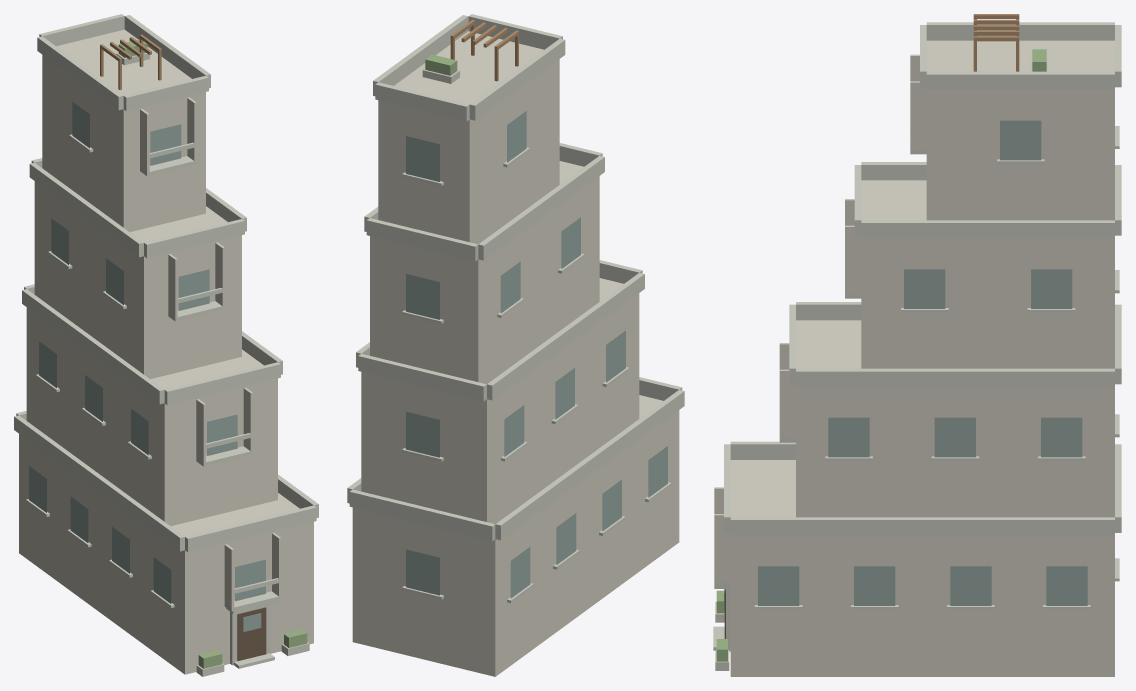
File: residential_1x2_terraces.glb
The picture shows the model from 3 angles, left to right: view 1: azimuth 30°, elevation 25°; view 2: azimuth 150°, elevation 25°; view 3: azimuth 270°, elevation 25°; orthographic projection. The views are drawn at different scales.
Parts seen in each view (by area): view 1: residential_1x2_terraces_0; view 2: residential_1x2_terraces_0; view 3: residential_1x2_terraces_0.
Boxes of the visible parts, left/top/right/bottom form: residential_1x2_terraces_0: left=14, top=14, right=318, bottom=676; residential_1x2_terraces_0: left=347, top=14, right=684, bottom=676; residential_1x2_terraces_0: left=713, top=14, right=1121, bottom=676.
Size of the model in its own units: 7 by 25.5 by 15.4.
